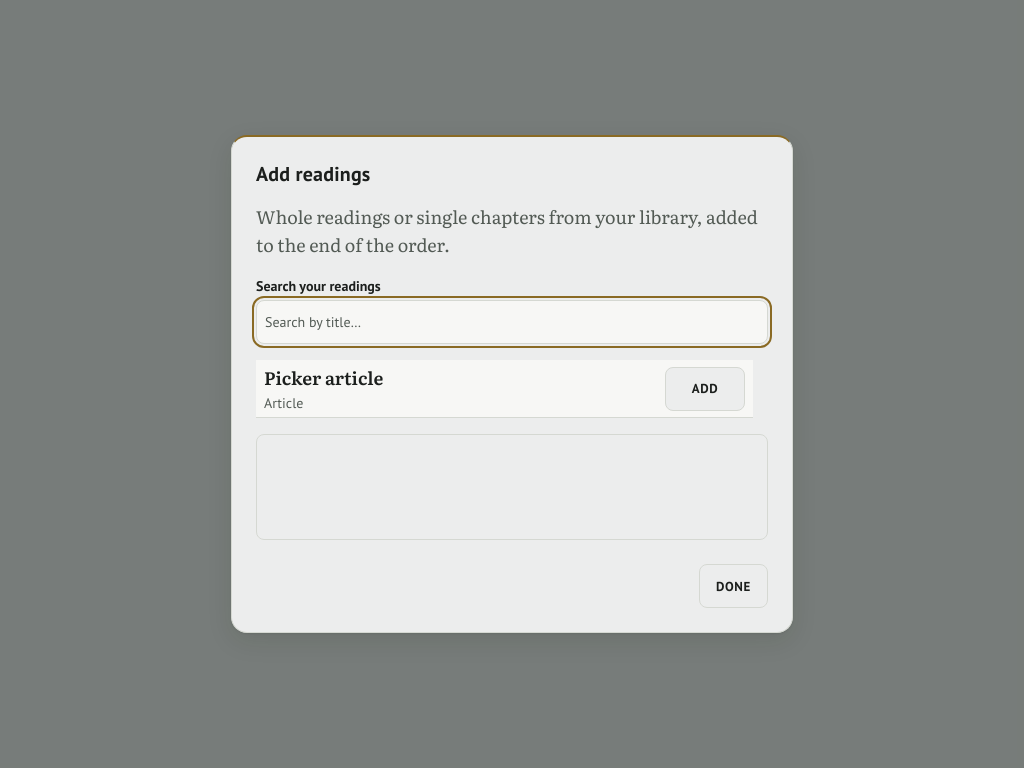
Test: add-reading dialog outcomes › announces $outcome inside the active modal
Click the button with aria-label "Add Picker article" at {"x": 705, "y": 389}, box x1=665 y1=367 x2=745 y2=411
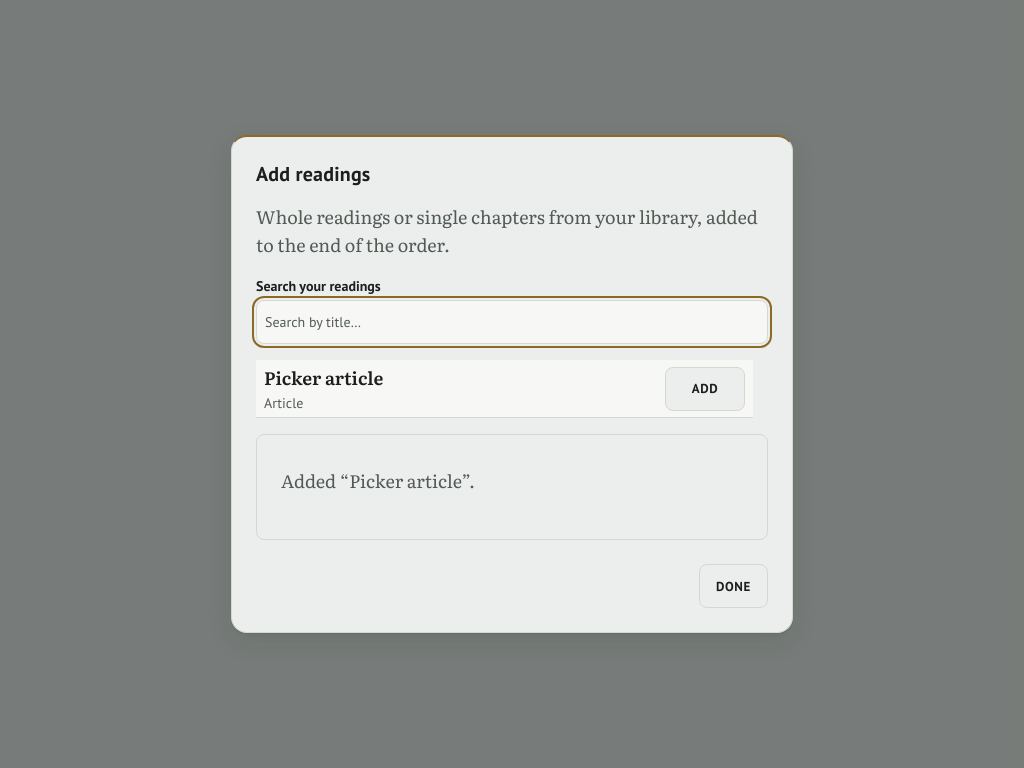
Expected: the message reads "Added “Picker article”.", x1=281 y1=468 x2=475 y2=494
